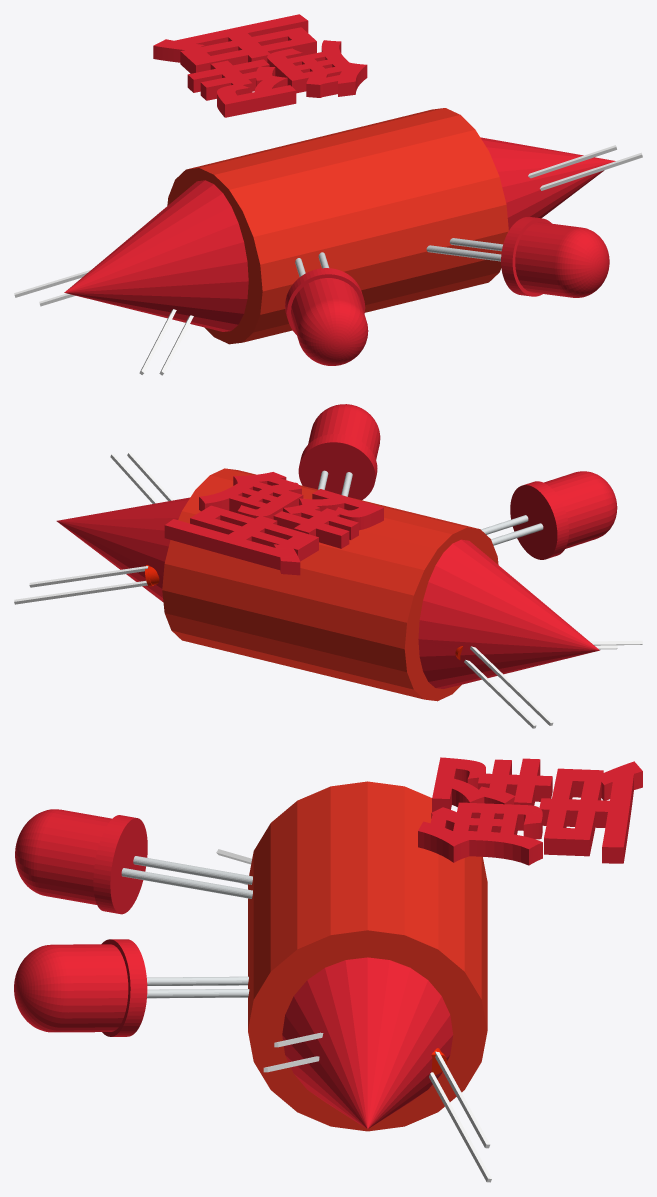
Rendered from tinker.obj.
3 views of the same model, one above another, from view 1: azimuth 30°, elevation 25°; view 2: azimuth 150°, elevation 25°; view 3: azimuth 270°, elevation 25° (orthographic). The views are drawn at different scales.
Parts seen in each view (by area): view 1: group_0_15277357, group_0_15281949, group_0_16448250, group_0_14541540; view 2: group_0_15277357, group_0_15281949, group_0_16448250, group_0_14541540; view 3: group_0_15277357, group_0_15281949, group_0_14541540, group_0_16448250.
Part boxes in pixels (x1,y1,x2,y2): group_0_15277357: (64,14,615,365); group_0_15281949: (167,108,508,344); group_0_16448250: (14,145,642,375); group_0_14541540: (295,238,502,276); group_0_15277357: (56,404,617,688); group_0_15281949: (162,468,498,701); group_0_16448250: (14,452,642,728); group_0_14541540: (318,470,543,545); group_0_15277357: (14,757,642,1128); group_0_15281949: (248,781,487,1131); group_0_14541540: (121,856,252,998); group_0_16448250: (216,849,491,1182).
Size of the model in its own units: 89.16 by 31 by 70.84.
